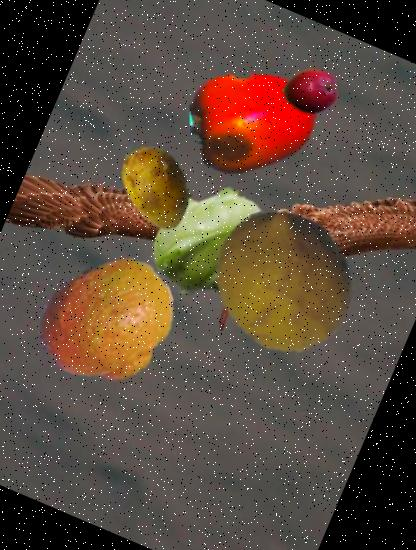Kaki: (169, 39, 337, 208)
Kohlrabi: (130, 161, 294, 324)
Lemon: (188, 185, 379, 376)
Mandarine: (17, 232, 198, 414)
Mango: (272, 54, 348, 130)
Potato: (97, 128, 216, 247)
